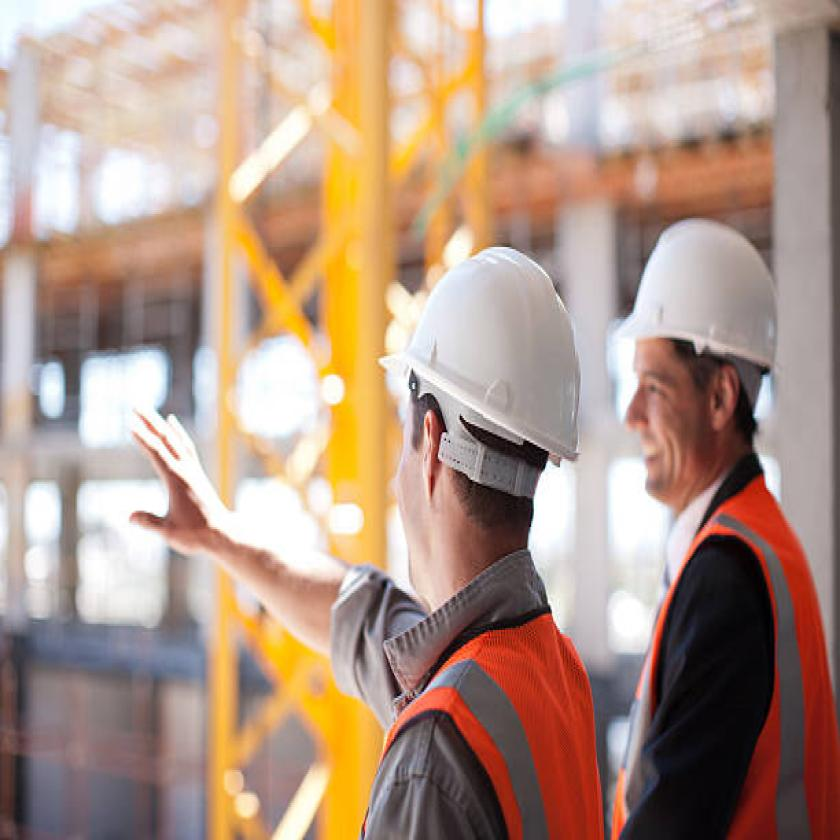Con_casco: (344, 231, 594, 600), (609, 169, 799, 503)
